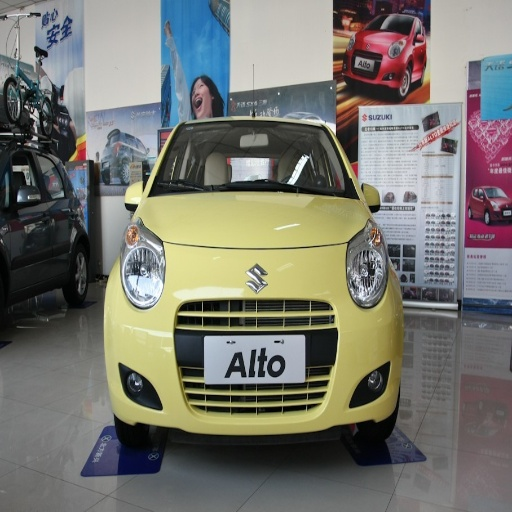front_bumper: (108, 234, 400, 436)
front_glass: (151, 124, 354, 197)
front_right_light: (122, 224, 165, 308)
hood: (140, 192, 367, 246)
